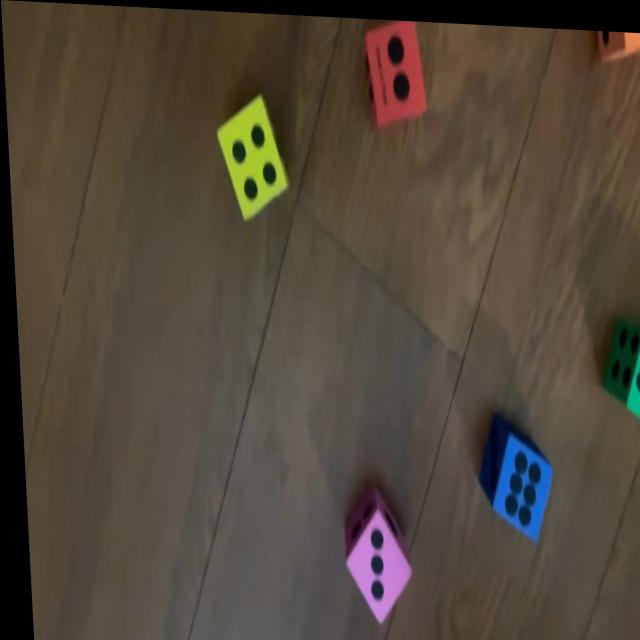cube: (469, 412, 550, 536), (362, 16, 426, 125), (594, 306, 640, 431)
